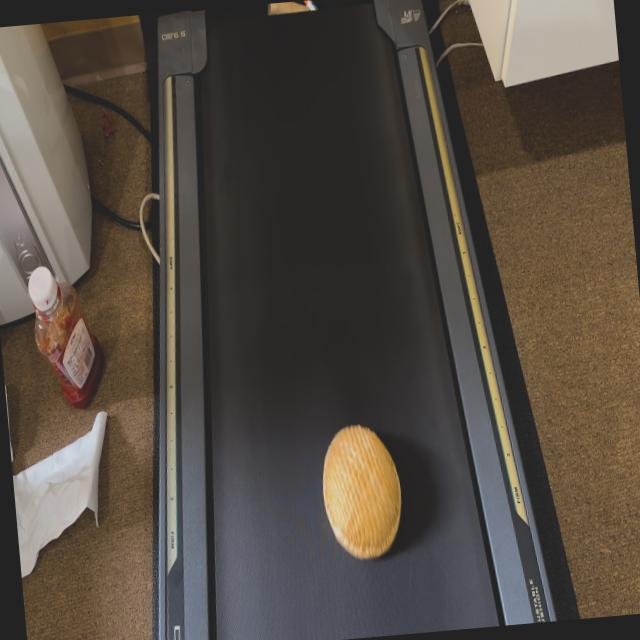Recycle: (266, 0, 309, 14)
Trash: (318, 420, 408, 562), (304, 0, 317, 9)
